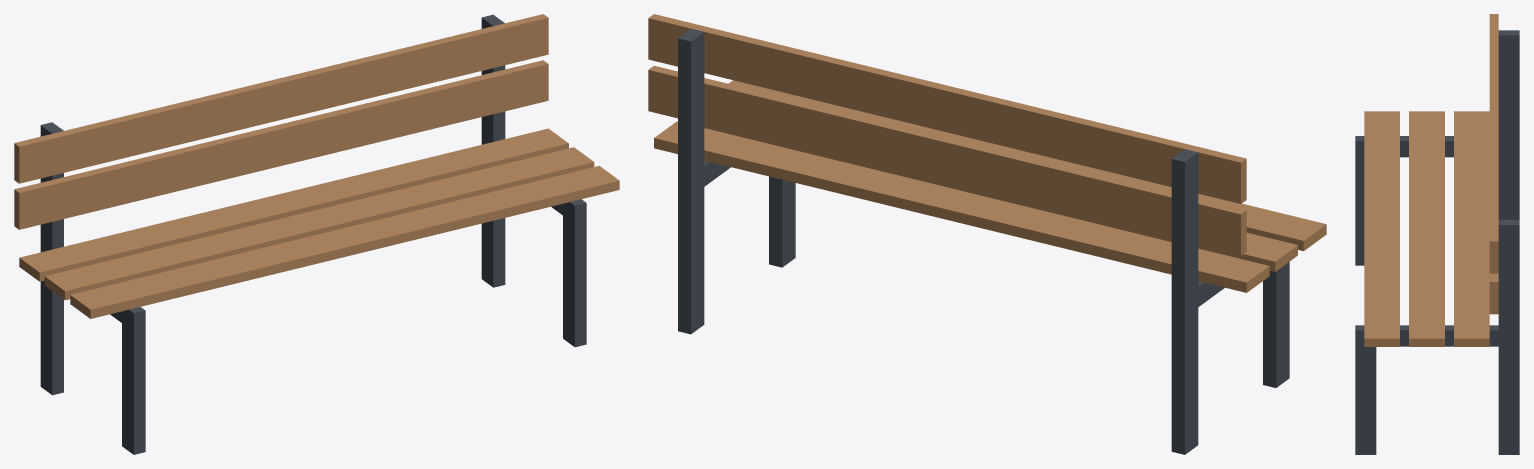
Rendered from SM_Bench.obj.
3 views of the same model, side by side, from view 1: azimuth 30°, elevation 25°; view 2: azimuth 150°, elevation 25°; view 3: azimuth 270°, elevation 25° (orthographic). The views are drawn at different scales.
Parts seen in each view (by area): view 1: Bench; view 2: Bench; view 3: Bench.
Part boxes in pixels (box(x1,y1,x2,y2)): Bench: box(14, 14, 619, 454); Bench: box(648, 14, 1326, 454); Bench: box(1355, 14, 1519, 454).
Size of the model in its own units: 1.8 by 0.85 by 0.55.
